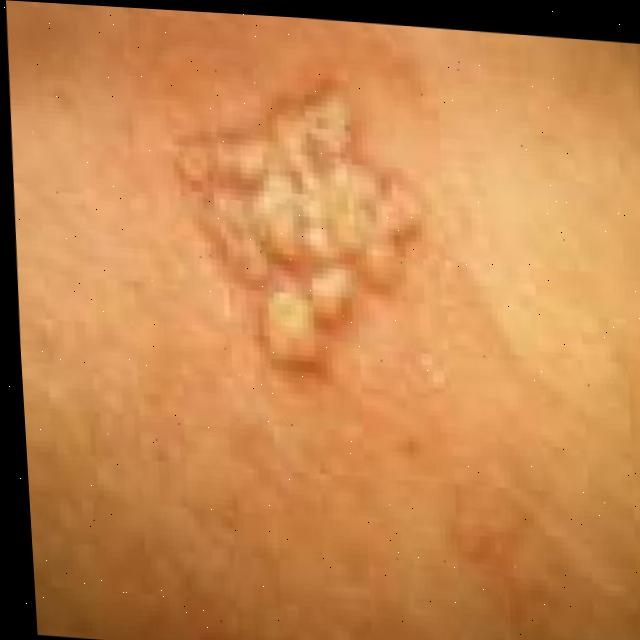Shingles: (161, 66, 437, 393)
